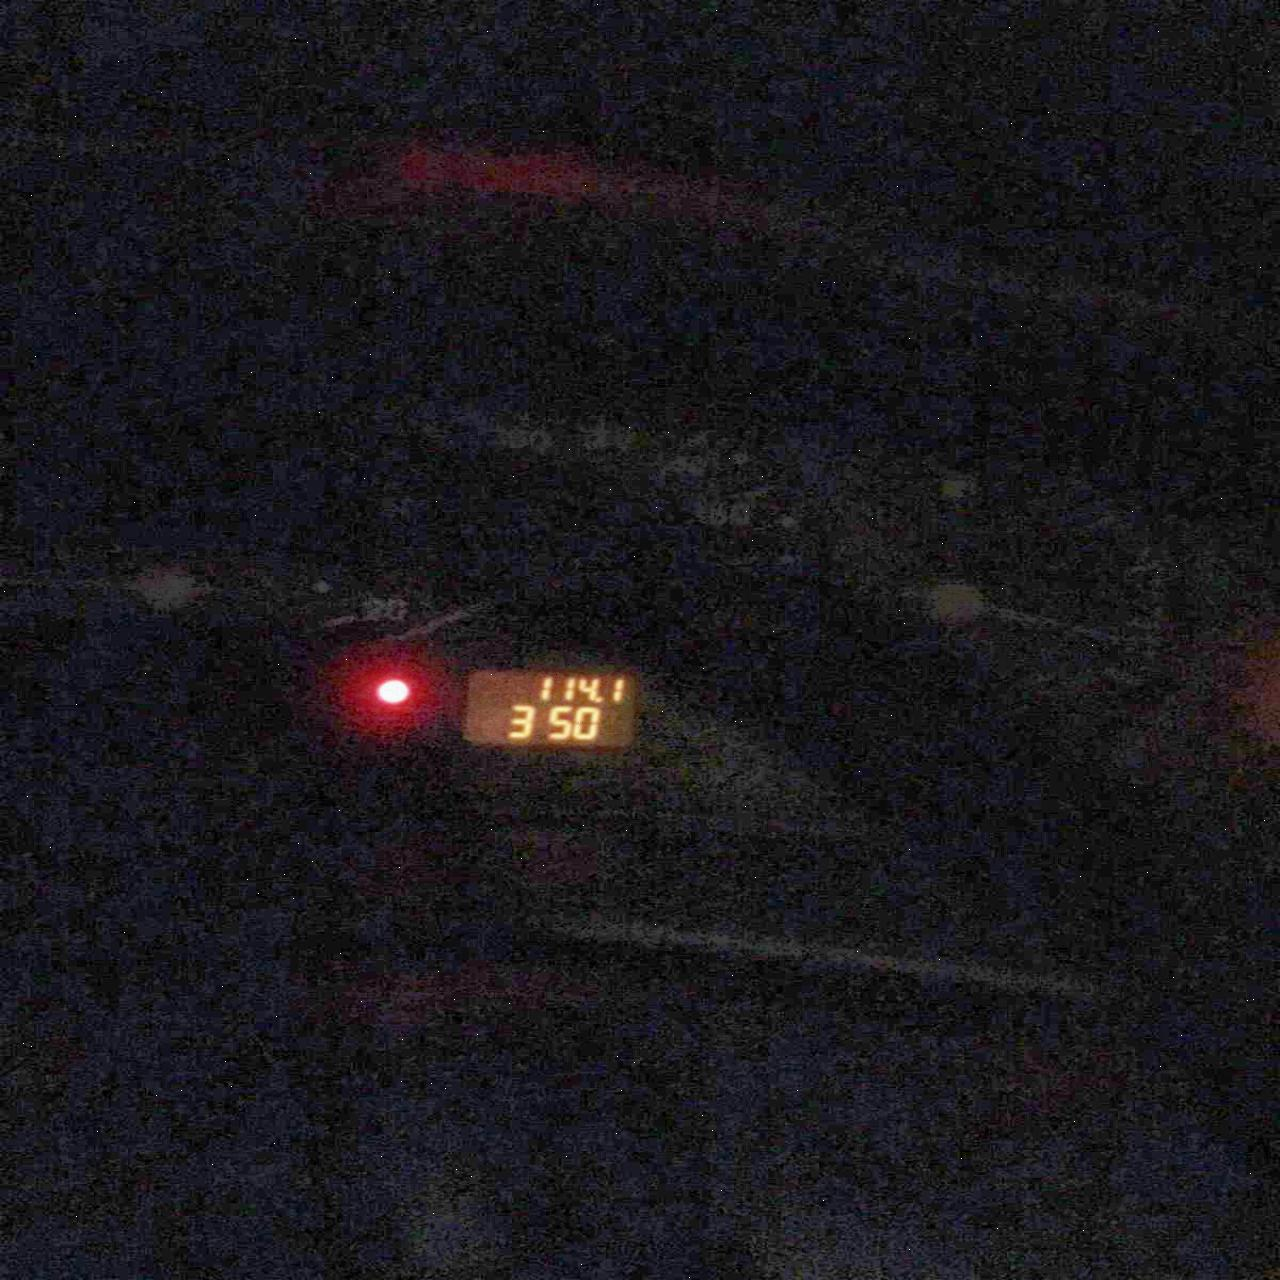-: (595, 696, 602, 702)
0: (572, 707, 599, 740)
1: (538, 676, 552, 701), (561, 678, 576, 701), (611, 678, 624, 701)
3: (506, 703, 535, 738)
4: (577, 678, 600, 701)
5: (546, 704, 572, 740)
odometer: (461, 667, 636, 749)
